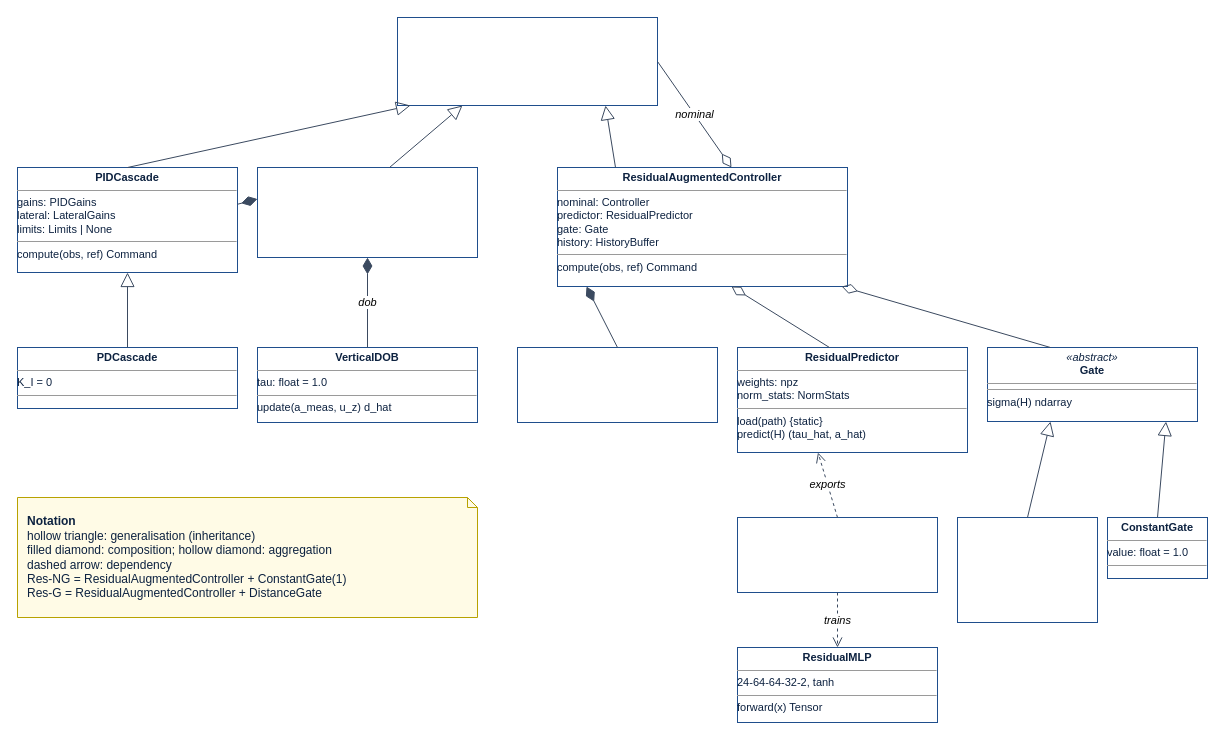
Some shapes in this 1225 by 740 pixel diagram are drawn without their labels. Each missing label, with the centre of its shape:
DistanceGate mu, std: ndarray d0: float kappa: float distance(H) ndarray: pixel 1027 569
HistoryBuffer W: int = 4 push(obs, u_nom) H[B, 24]: pixel 617 384
PIDDOBController pid: PIDCascade dob: VerticalDOB compute(obs, ref) Command: pixel 367 212
Trainer cfg: TrainingConfig fit(train, val) TrainingReport: pixel 837 554
«abstract» Controller reset(batch_size, rng) compute(obs, ref) Command: pixel 527 61
